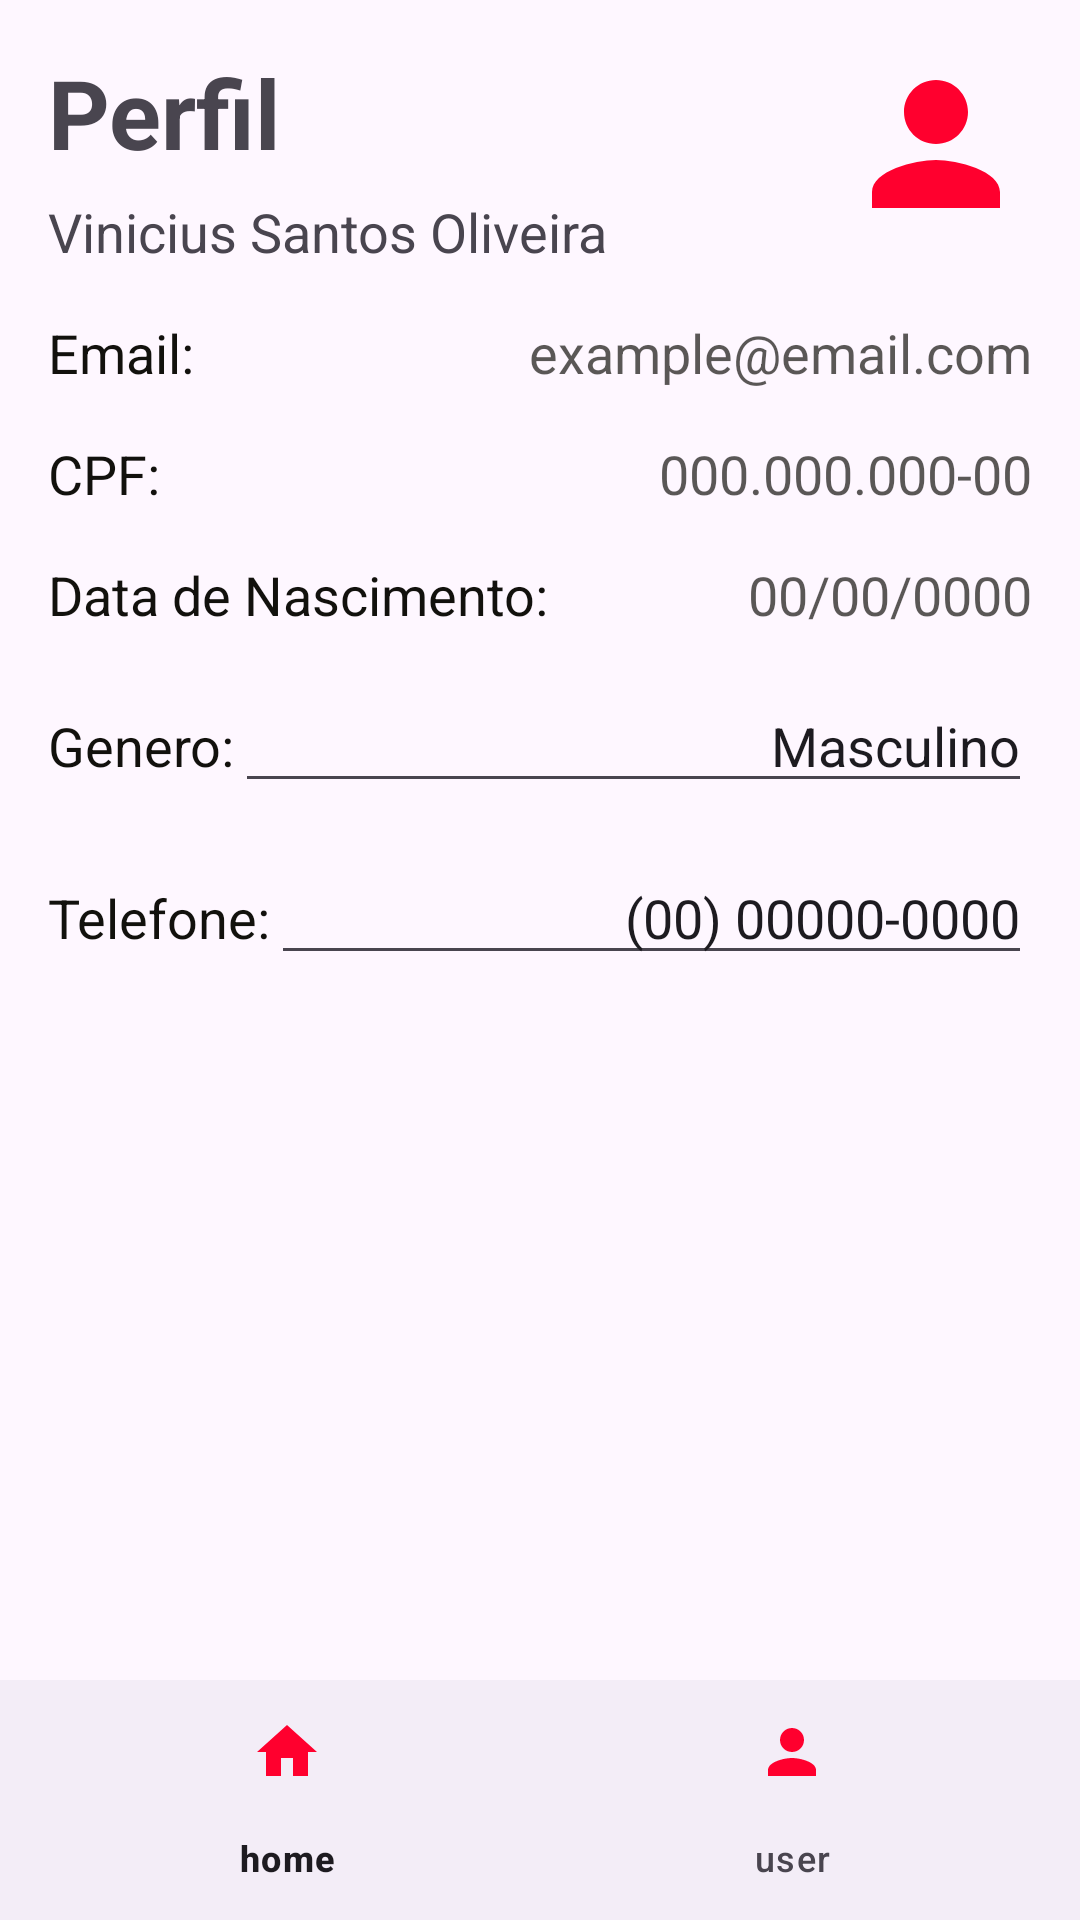

Icon click points for this 1080 x 1920 phone screenshot, format (x,y):
person: (936,144)
